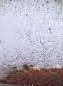Corrosion: (1, 63, 63, 86)
